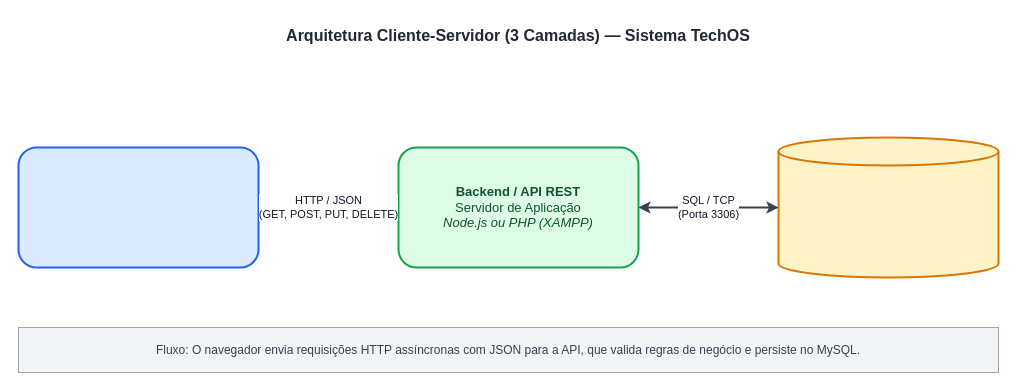
Some shapes in this 1016 by 390 pixel diagram are drawn without their labels. The shapes that lost their labels are listed below. From the top down, each one's centre as x and y in pixels, then its label:
At pixel 138 207: "Frontend / Cliente Navegador Web HTML5 / CSS3 / JavaScript".
At pixel 888 207: "Banco de Dados Relacional MySQL Server / Workbench Porta 3306 (XAMPP)".
